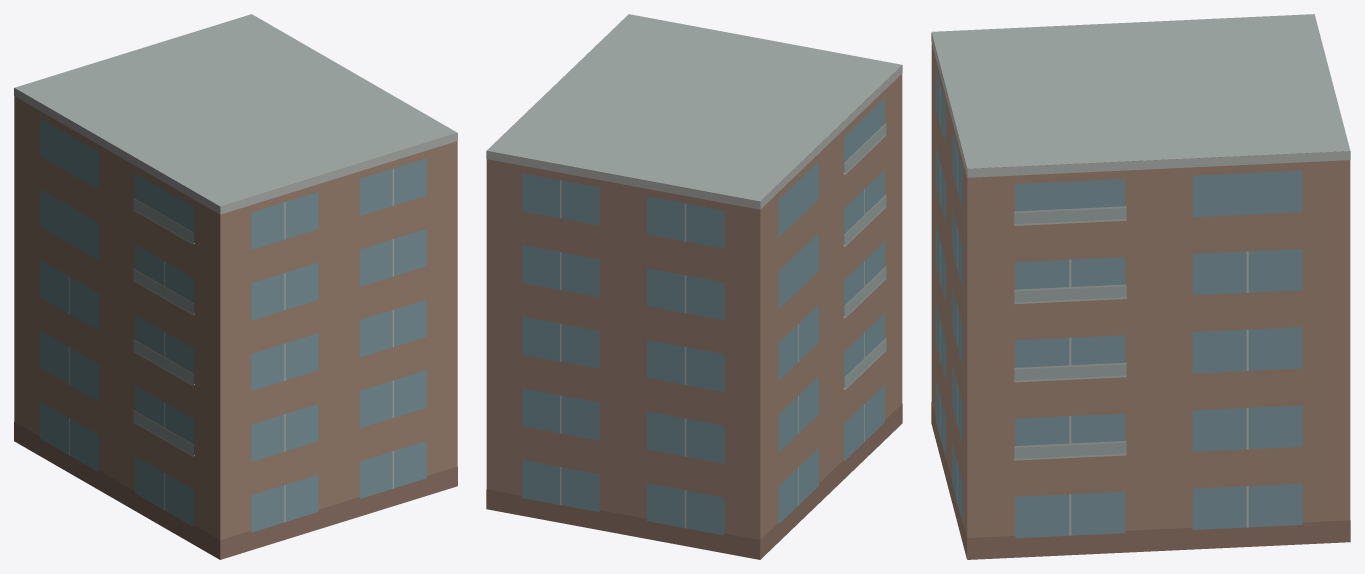
Rendered from survey-upis-32653253.glb.
3 views of the same model, side by side, from view 1: azimuth 30°, elevation 25°; view 2: azimuth 150°, elevation 25°; view 3: azimuth 270°, elevation 25° (orthographic). The views are drawn at different scales.
Parts seen in each view (by area): view 1: survey-upis-32653253.tmp; view 2: survey-upis-32653253.tmp; view 3: survey-upis-32653253.tmp.
Part boxes in pixels (left/top/right/bottom): survey-upis-32653253.tmp: left=14, top=14, right=457, bottom=559; survey-upis-32653253.tmp: left=486, top=14, right=902, bottom=559; survey-upis-32653253.tmp: left=931, top=14, right=1350, bottom=559.
Bounding box in the file's own units: 8.92 × 10.5 × 10.21.
